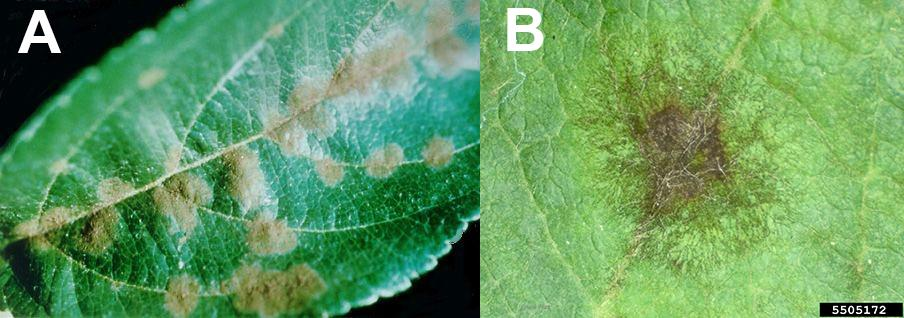Apple Scab Leaf: (6, 1, 482, 318)
